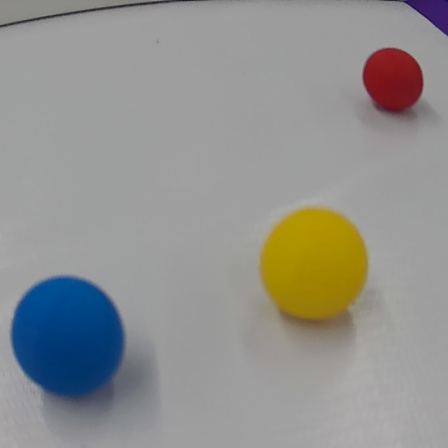blue: (8, 275, 125, 411)
red: (359, 41, 428, 116)
yellow: (261, 202, 371, 323)
